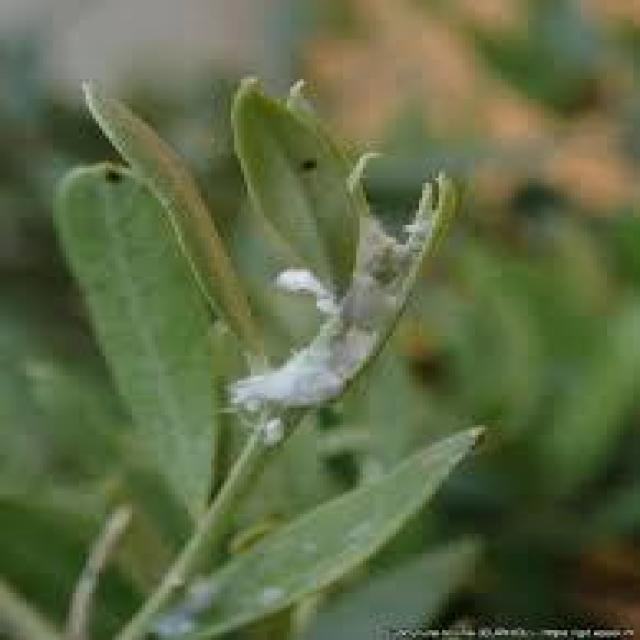Psyllid: (231, 185, 432, 408)
